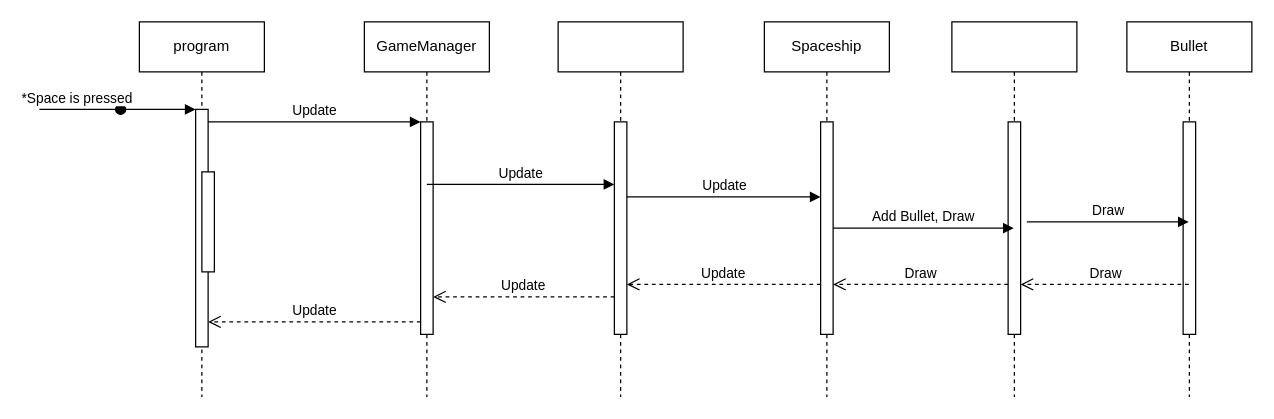
Some shapes in this 1274 by 419 pixel diagram are drawn without their labels. The box of each missing label's shape, as (x1, y1, x2, y2) in pixels:
currentPage: (557, 21, 683, 397)
List<Bullet>: (951, 21, 1077, 397)
